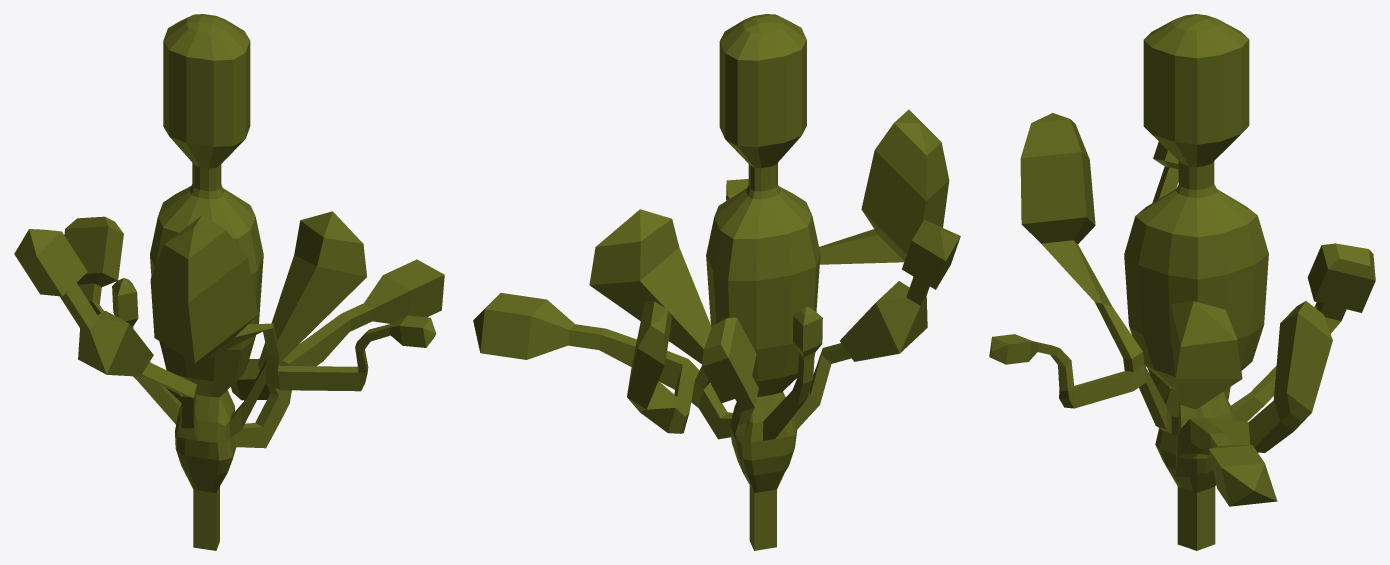
File: S0.Cactus1.glb
3 views of the same model, side by side, from view 1: azimuth 30°, elevation 25°; view 2: azimuth 150°, elevation 25°; view 3: azimuth 270°, elevation 25° (orthographic).
Visible parts, largest first — view 1: Cube.003; view 2: Cube.003; view 3: Cube.003.
Part boxes in pixels (box(x1,y1,x2,y2)): Cube.003: box(14, 14, 444, 550); Cube.003: box(473, 14, 960, 550); Cube.003: box(989, 14, 1375, 550).
Size of the model in its own units: 9.41 by 10.49 by 7.
